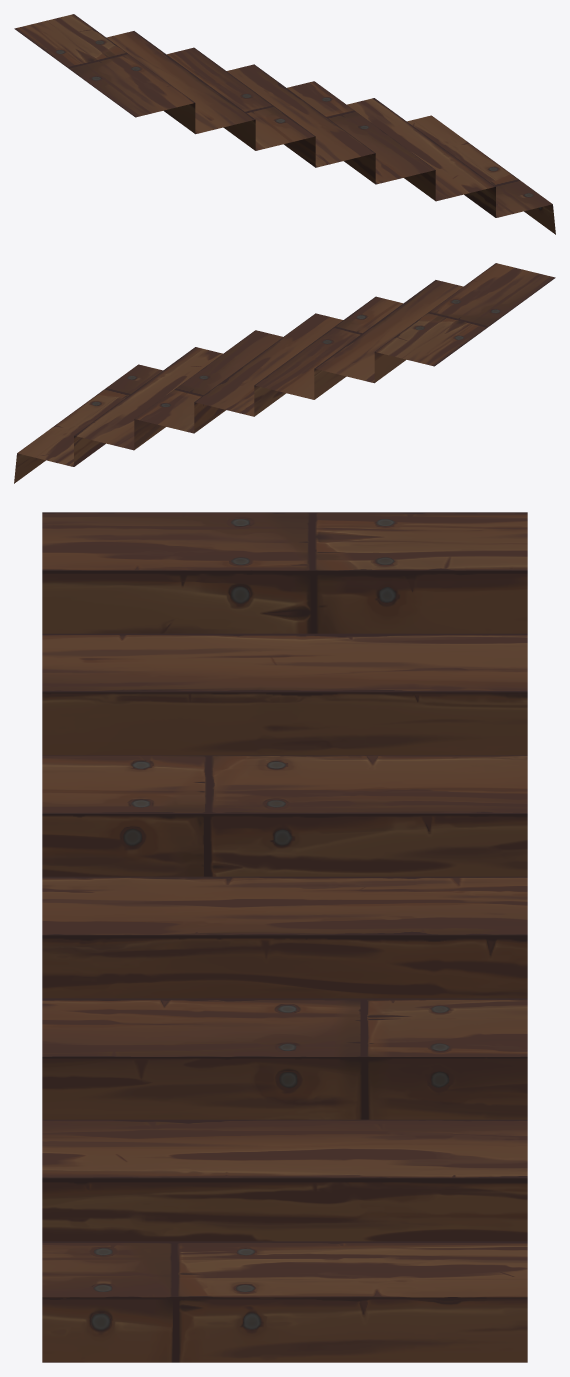
Rendered from MOD_Stairs_02_E_straight_02_half.fbx.
The picture shows the model from 3 angles, top to bottom: view 1: azimuth 30°, elevation 25°; view 2: azimuth 150°, elevation 25°; view 3: azimuth 270°, elevation 25°; orthographic projection. The views are drawn at different scales.
Parts seen in each view (by area): view 1: MOD_Stairs_02_E_straight_02_half; view 2: MOD_Stairs_02_E_straight_02_half; view 3: MOD_Stairs_02_E_straight_02_half.
Boxes of the visible parts, <box> form: MOD_Stairs_02_E_straight_02_half: <box>14,14,555,234</box>; MOD_Stairs_02_E_straight_02_half: <box>14,263,555,483</box>; MOD_Stairs_02_E_straight_02_half: <box>42,512,527,1362</box>.
Bounding box in the file's own units: 400 × 200 × 200.
